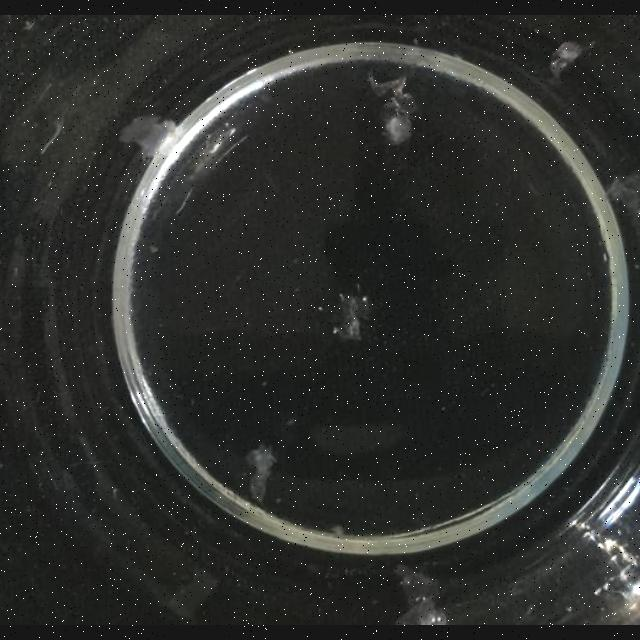Fibre: (368, 72, 418, 146), (394, 566, 448, 626), (117, 114, 177, 160), (331, 290, 372, 344), (245, 444, 277, 502), (548, 39, 592, 79), (606, 172, 640, 216), (328, 524, 346, 538), (112, 487, 118, 499)
microbeads: (332, 328, 338, 334), (362, 295, 368, 301)
